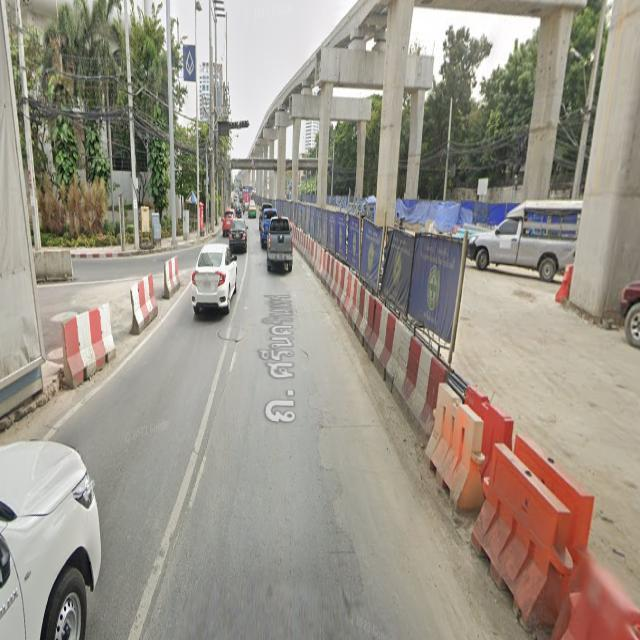fallen_object: (420, 376, 640, 640), (326, 252, 397, 367), (29, 302, 124, 381), (392, 305, 452, 428), (286, 213, 352, 296), (116, 267, 165, 340), (139, 237, 193, 303), (547, 262, 584, 309)
